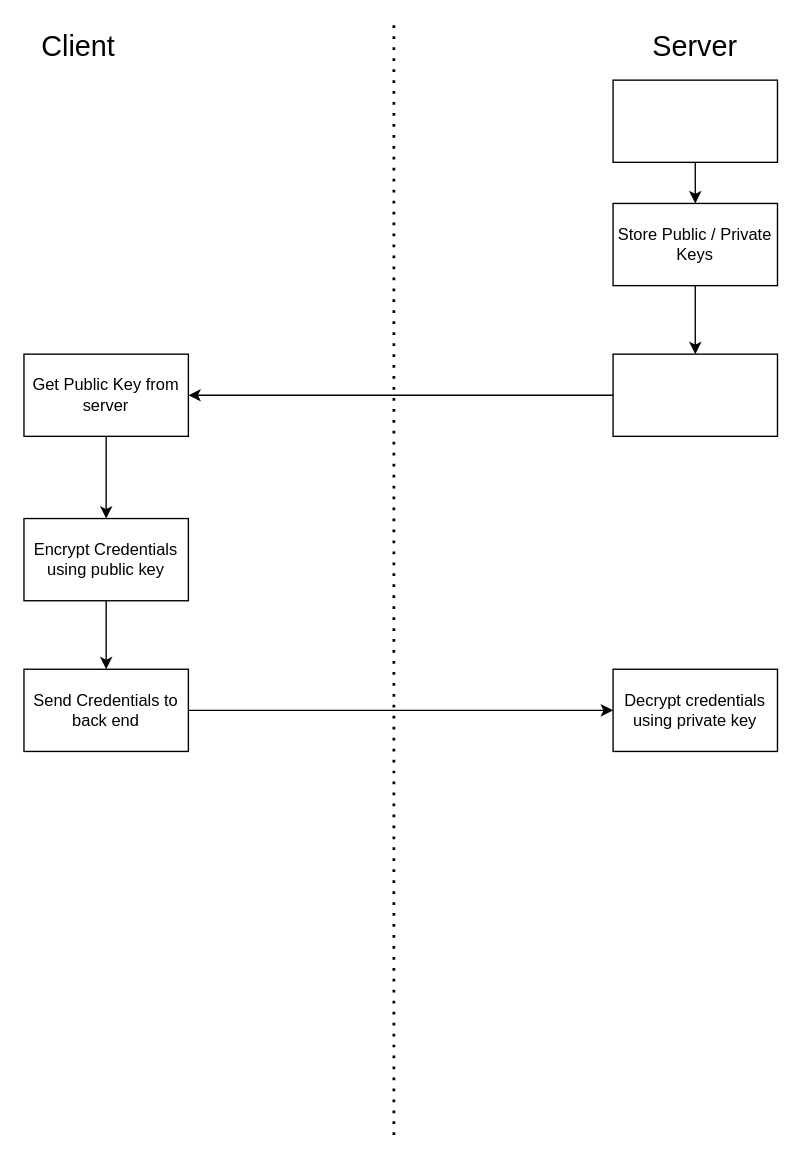
This 801x1160 diagram has some shape labels left out. The centre of each missing label's shape, as x and y in pixels:
"Generate Public / Private Keys" goes at [694,120].
"Send Public Key to client" goes at [694,394].
